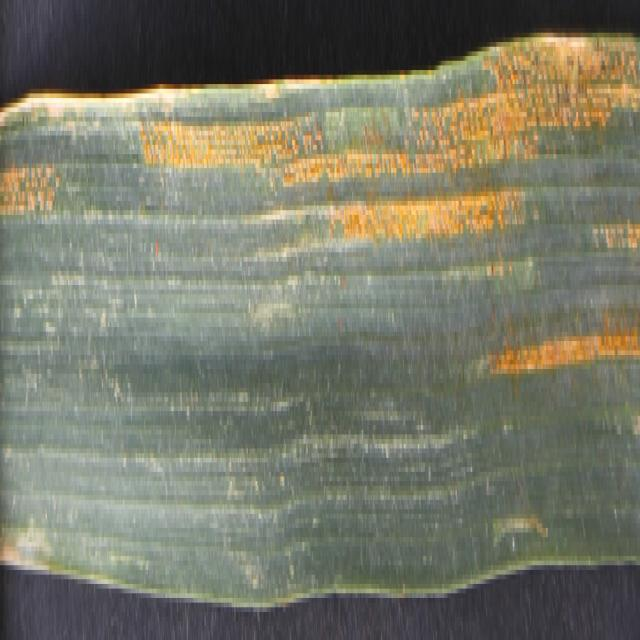leaf rust: (131, 33, 640, 406), (1, 121, 59, 266)
